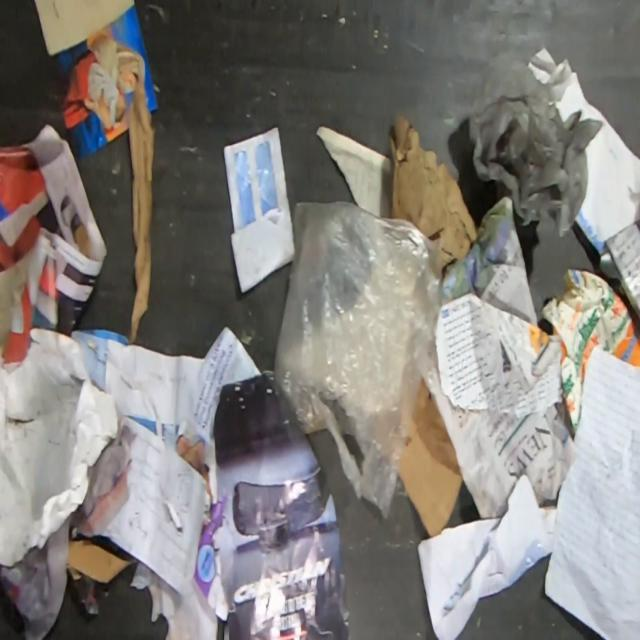cardboard: (541, 267, 639, 442), (391, 112, 478, 267), (397, 377, 464, 537)
soft_plastic: (272, 202, 444, 522), (471, 50, 605, 241)
